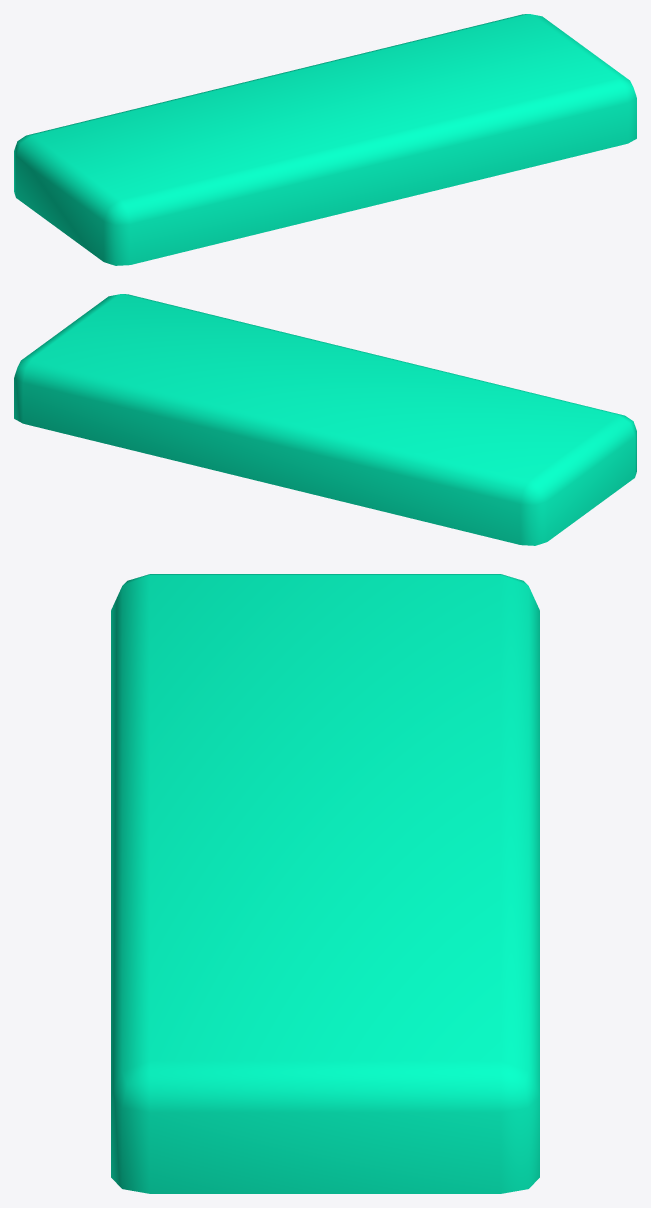
Rendered from button_rectangle_green.glb.
The picture shows the model from 3 angles, top to bottom: view 1: azimuth 30°, elevation 25°; view 2: azimuth 150°, elevation 25°; view 3: azimuth 270°, elevation 25°; orthographic projection. The views are drawn at different scales.
Parts seen in each view (by area): view 1: Cube.013; view 2: Cube.013; view 3: Cube.013.
Part boxes in pixels (<box>): Cube.013: <box>14,14,636,265</box>; Cube.013: <box>14,294,636,545</box>; Cube.013: <box>111,574,539,1193</box>.
Size of what is drawn, in the model's own units: 0.3845 by 0.0403 by 0.1345.
1 material, 1 textured.
